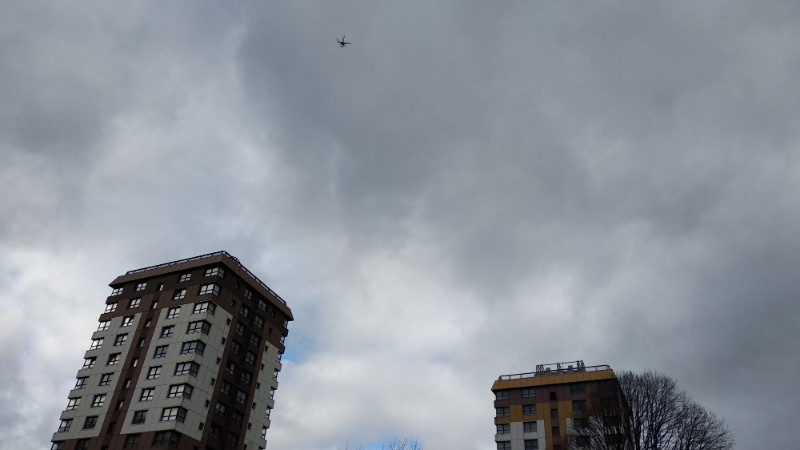drone: (337, 36, 350, 47)
